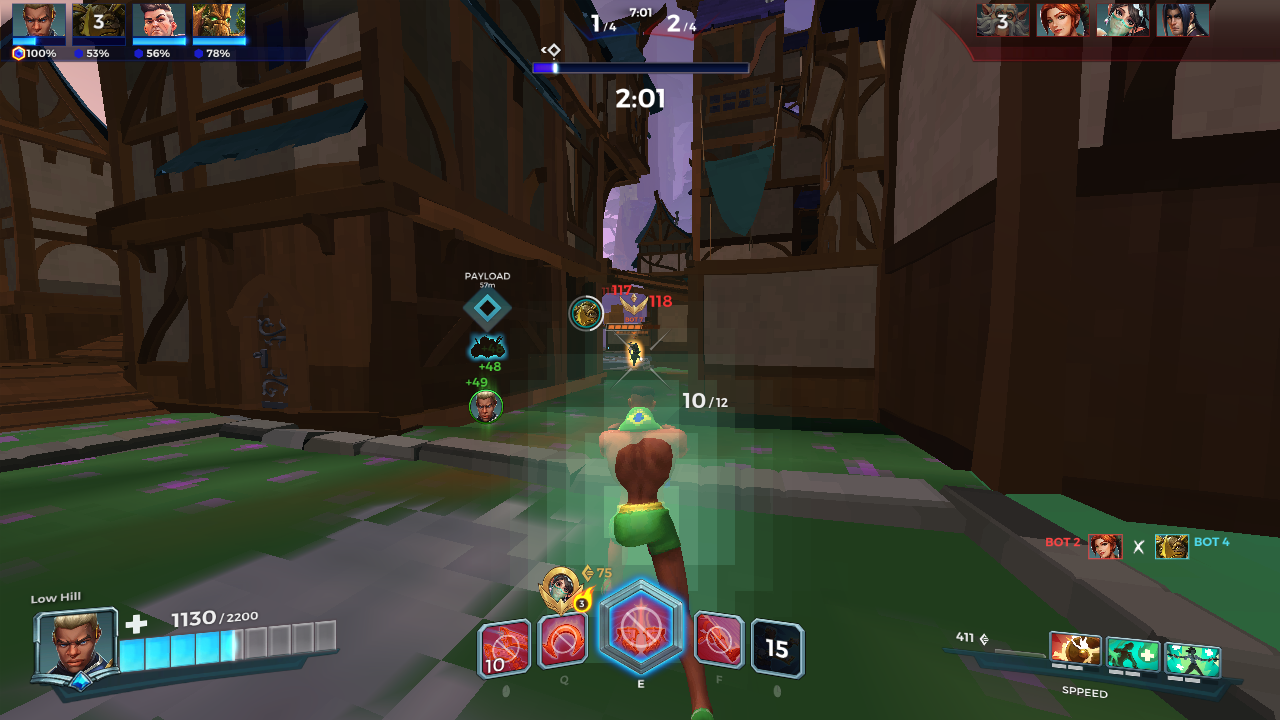model: (619, 336, 649, 373)
